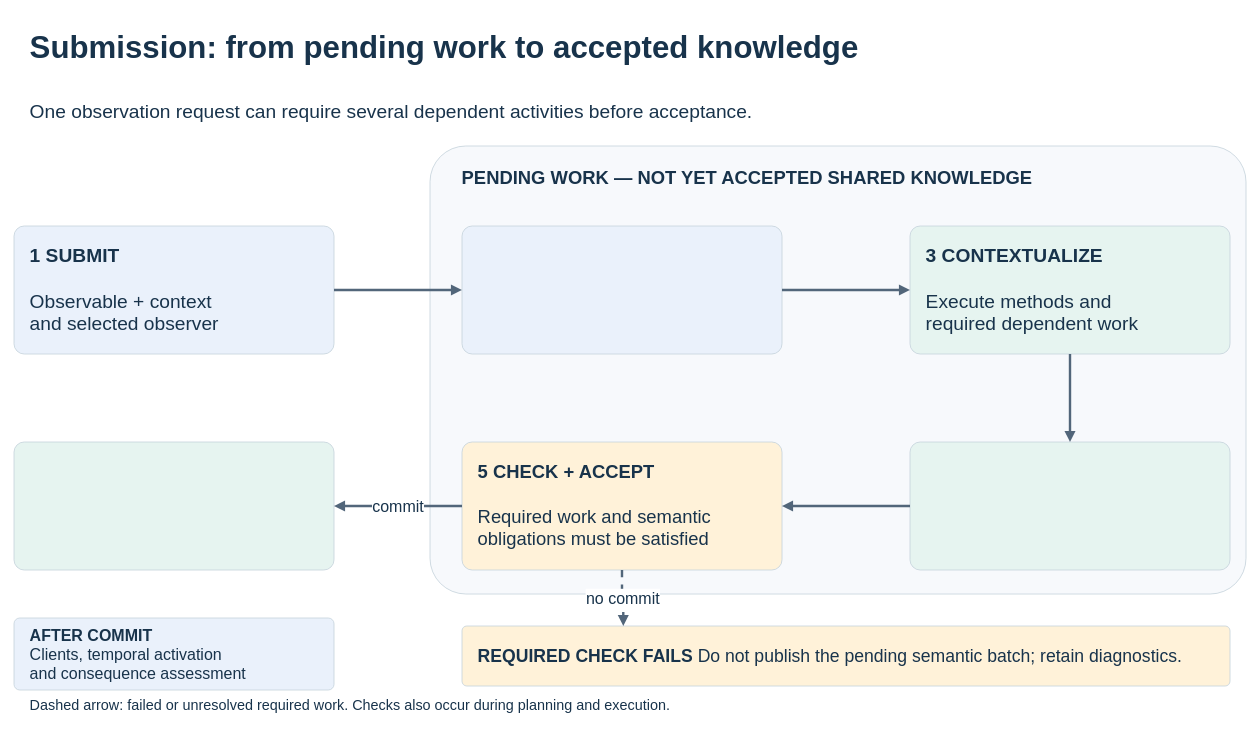
The diagram is 1260 pixels wide and 730 high, and some of its shapes have lost their labels. Each missing label, with the box of its shape:
2 RESOLVE Reuse eligible observations or build a valid plan: (461, 225, 782, 354)
4 STAGE CHANGES Prepare results, links and provenance: (909, 441, 1230, 570)
6 GRAPH COMMIT Accepted observations, relations and provenance: (13, 441, 334, 570)
